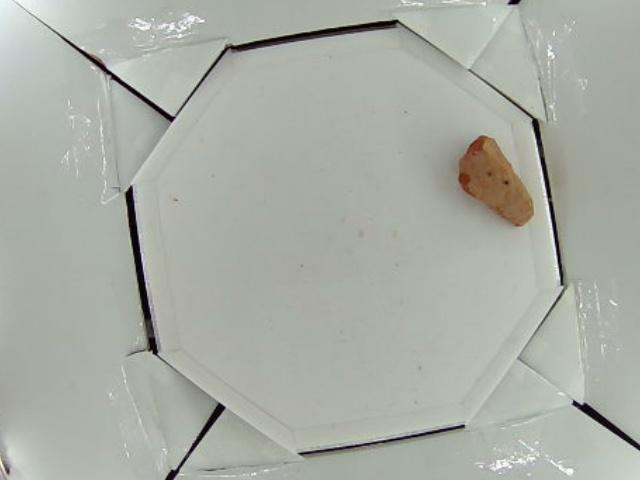Brisk: (457, 134, 536, 228)
